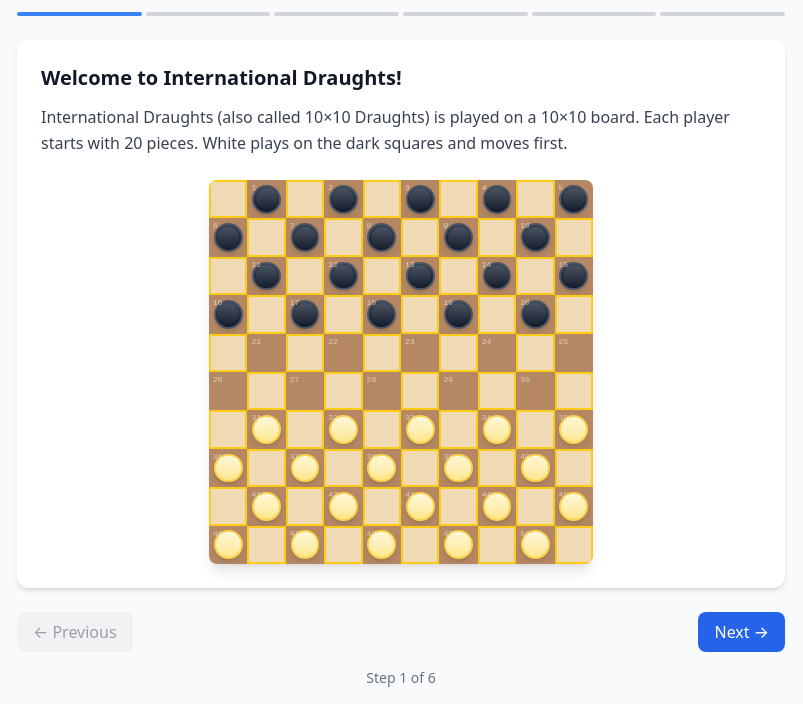
Test: TutorialPage › navigates to next step
The image size is (803, 704).
(page scrolled)
Click the button "Next →".
click(742, 632)  # box [698,612,785,652]
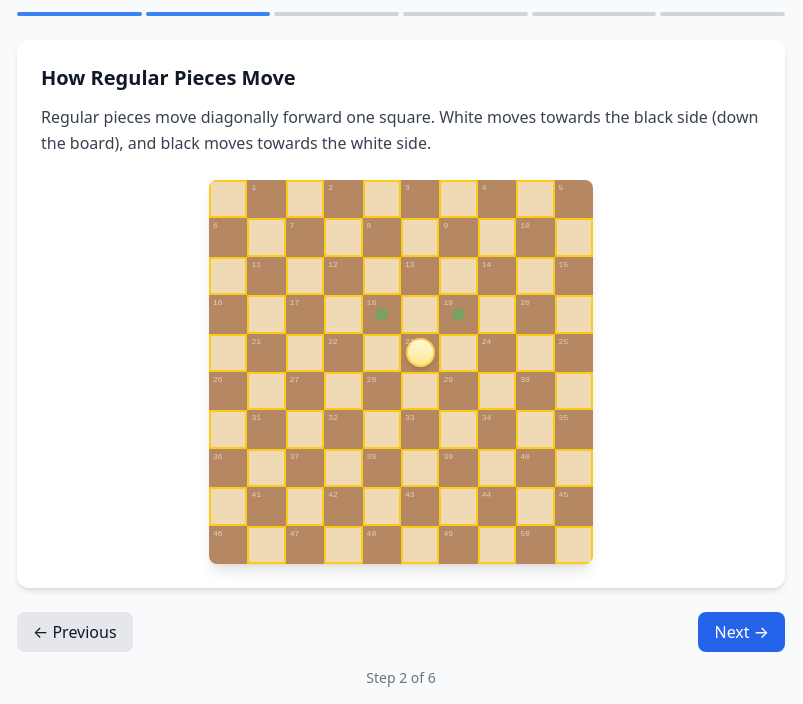
Now the heading "How Regular Pieces Move" is shown, box [41,64,296,91]
